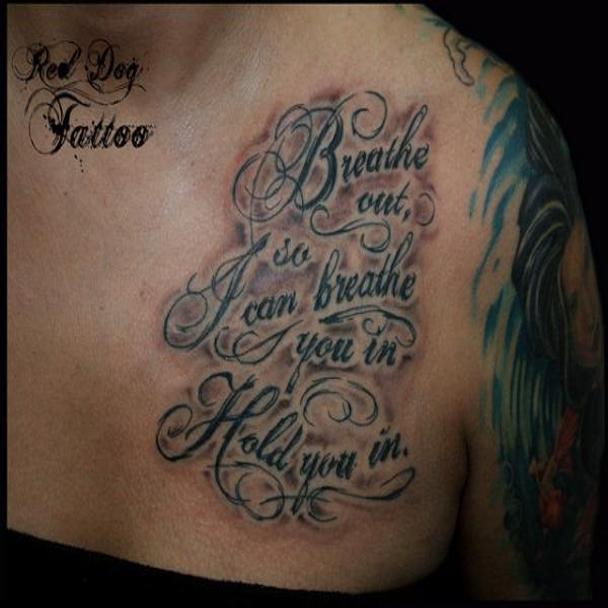tattoos: (150, 84, 444, 539), (391, 3, 608, 608), (9, 39, 156, 160)
